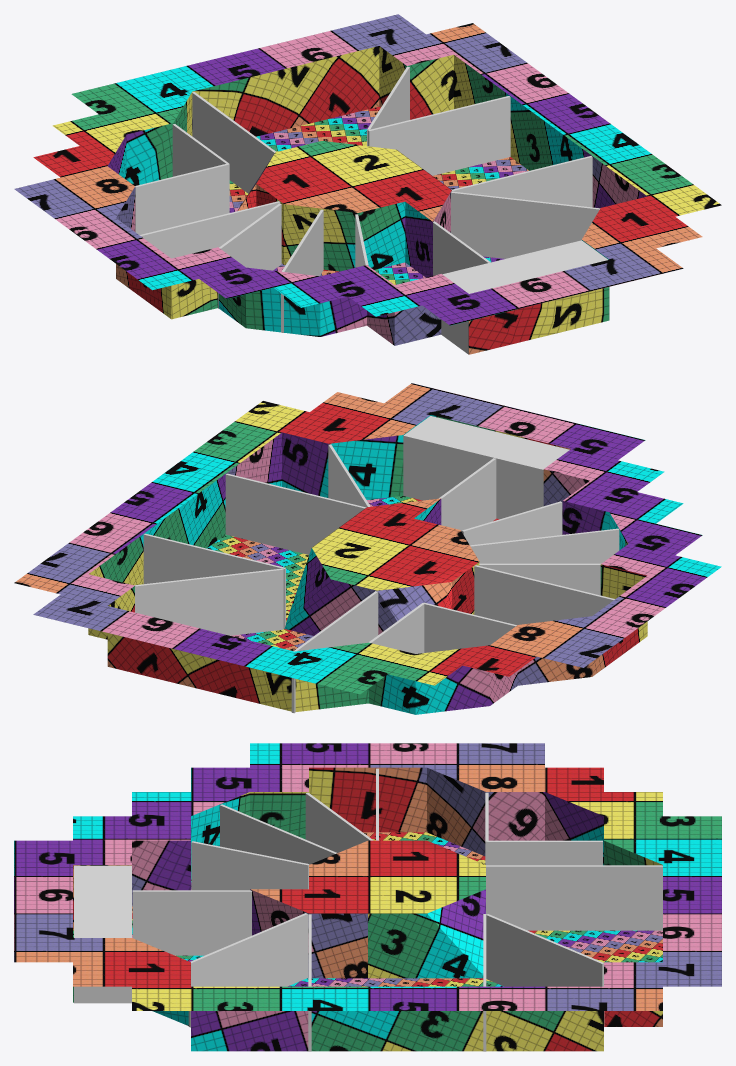
File: aitest.dae
3 renders of one model, top to bottom at view 1: azimuth 30°, elevation 25°; view 2: azimuth 150°, elevation 25°; view 3: azimuth 270°, elevation 25°, orthographic. The views are drawn at different scales.
Visible parts, largest first — view 1: AITest_Plane, TriggerRegion0#, TriggerRegion2#002, TriggerRegion8#008, TriggerRegion3a#002, TriggerRegion1#001, TriggerRegion10#010, TriggerRegion7#007, TriggerRegion6#006, TriggerRegion3#003, TriggerRegion5#005, TriggerRegion9#009 (+1 smaller); view 2: AITest_Plane, TriggerRegion3a#002, TriggerRegion11#011, TriggerRegion1#001, TriggerRegion7#007, TriggerRegion0#, TriggerRegion5#005, TriggerRegion8#008, TriggerRegion3#003, TriggerRegion4#004, TriggerRegion10#010, TriggerRegion6#006 (+2 smaller); view 3: AITest_Plane, TriggerRegion10#010, TriggerRegion3#003, TriggerRegion2#002, TriggerRegion11#011, TriggerRegion3a#002, TriggerRegion4#004, TriggerRegion5#005, TriggerRegion9#009, TriggerRegion6#006.
Boxes of the visible parts, bbox=[...] form: AITest_Plane: bbox=[14, 14, 721, 354]; TriggerRegion0#: bbox=[368, 96, 510, 175]; TriggerRegion2#002: bbox=[451, 191, 600, 258]; TriggerRegion8#008: bbox=[135, 163, 229, 234]; TriggerRegion3a#002: bbox=[441, 240, 609, 354]; TriggerRegion1#001: bbox=[451, 156, 592, 207]; TriggerRegion10#010: bbox=[192, 92, 275, 193]; TriggerRegion7#007: bbox=[139, 201, 280, 258]; TriggerRegion6#006: bbox=[218, 203, 281, 308]; TriggerRegion3#003: bbox=[433, 221, 490, 275]; TriggerRegion5#005: bbox=[281, 209, 323, 332]; TriggerRegion9#009: bbox=[172, 124, 229, 176]; AITest_Plane: bbox=[14, 383, 721, 714]; TriggerRegion3a#002: bbox=[403, 416, 569, 519]; TriggerRegion11#011: bbox=[135, 568, 283, 635]; TriggerRegion1#001: bbox=[225, 473, 366, 554]; TriggerRegion7#007: bbox=[474, 565, 614, 625]; TriggerRegion0#: bbox=[143, 533, 285, 628]; TriggerRegion5#005: bbox=[470, 528, 619, 563]; TriggerRegion8#008: bbox=[423, 602, 516, 652]; TriggerRegion3#003: bbox=[439, 458, 496, 531]; TriggerRegion4#004: bbox=[461, 501, 562, 545]; TriggerRegion10#010: bbox=[291, 591, 378, 713]; TriggerRegion6#006: bbox=[479, 563, 600, 595]; AITest_Plane: bbox=[14, 743, 721, 1051]; TriggerRegion10#010: bbox=[486, 865, 662, 930]; TriggerRegion3#003: bbox=[132, 890, 251, 955]; TriggerRegion2#002: bbox=[188, 913, 307, 1027]; TriggerRegion11#011: bbox=[486, 914, 604, 1026]; TriggerRegion3a#002: bbox=[74, 865, 131, 1003]; TriggerRegion4#004: bbox=[191, 841, 309, 890]; TriggerRegion5#005: bbox=[220, 804, 337, 864]; TriggerRegion9#009: bbox=[487, 840, 602, 865]; TriggerRegion6#006: bbox=[305, 792, 373, 852].
Size of the model in its own units: 491 by 57.96 by 549.
